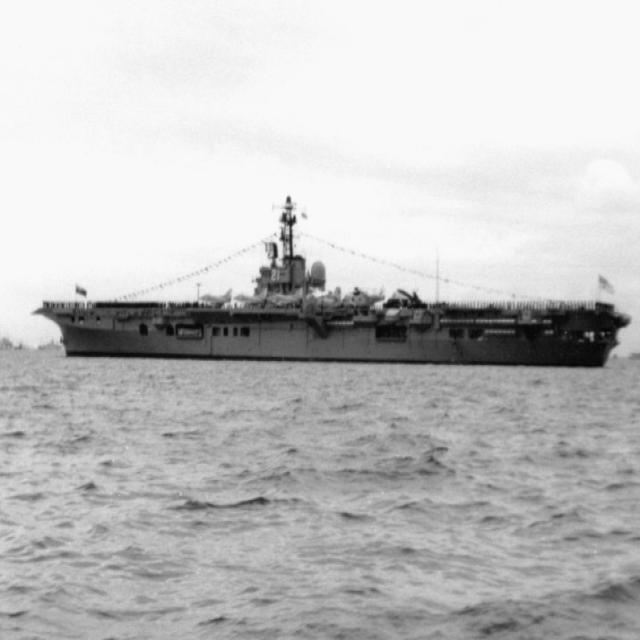Portanaves: (30, 182, 634, 369)
